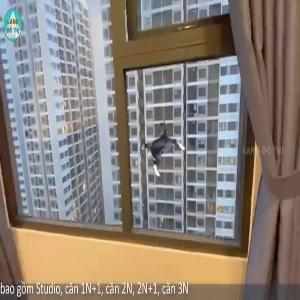drone: (137, 124, 189, 176)
